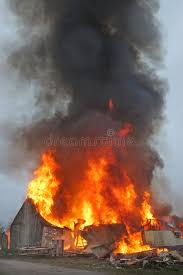fire: (28, 150, 176, 267)
